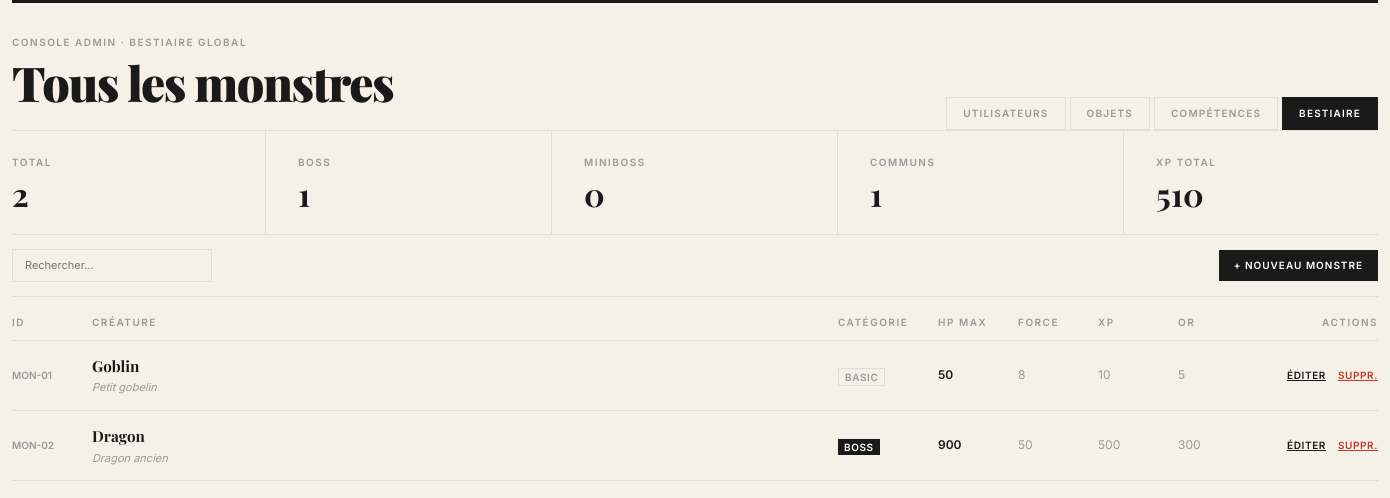
Test: AdminBestiaireView › filtre les ennemis par recherche textuelle
This screenshot has width=1390, height=498.
Type "Dragon" into the field with placeholder "Rechercher..." at (112, 265), box [12,249,212,282]
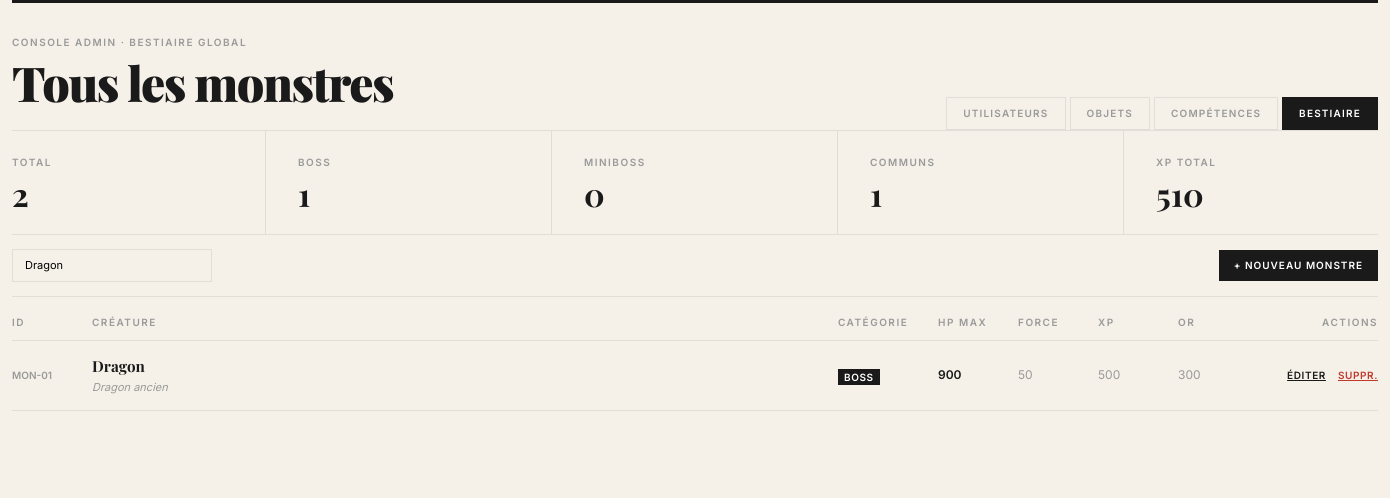
Expected: the text "Dragon" is shown, [92,356,145,376]
Expected: the text "Goblin" is gone
